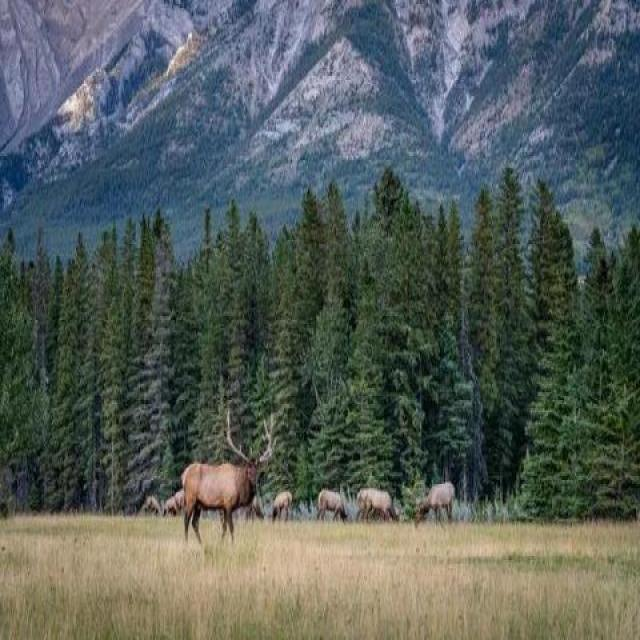deer: (165, 402, 289, 586)
